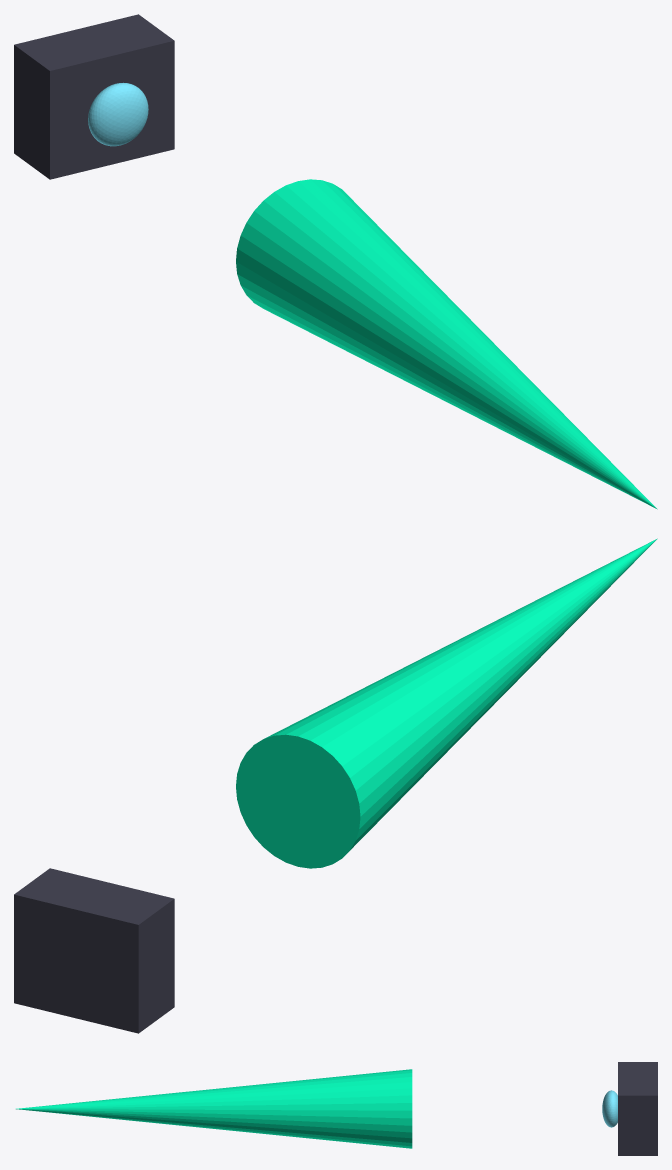
File: laser.glb
3 renders of one model, top to bottom at view 1: azimuth 30°, elevation 25°; view 2: azimuth 150°, elevation 25°; view 3: azimuth 270°, elevation 25°, orthographic. The views are drawn at different scales.
Parts seen in each view (by area): view 1: world; view 2: world; view 3: world.
Boxes of the visible parts, <box> form: world: <box>14,14,657,509</box>; world: <box>14,538,657,1033</box>; world: <box>16,1062,657,1155</box>.
Bounding box in the file's own units: 0.3 × 0.3 × 2.42.
